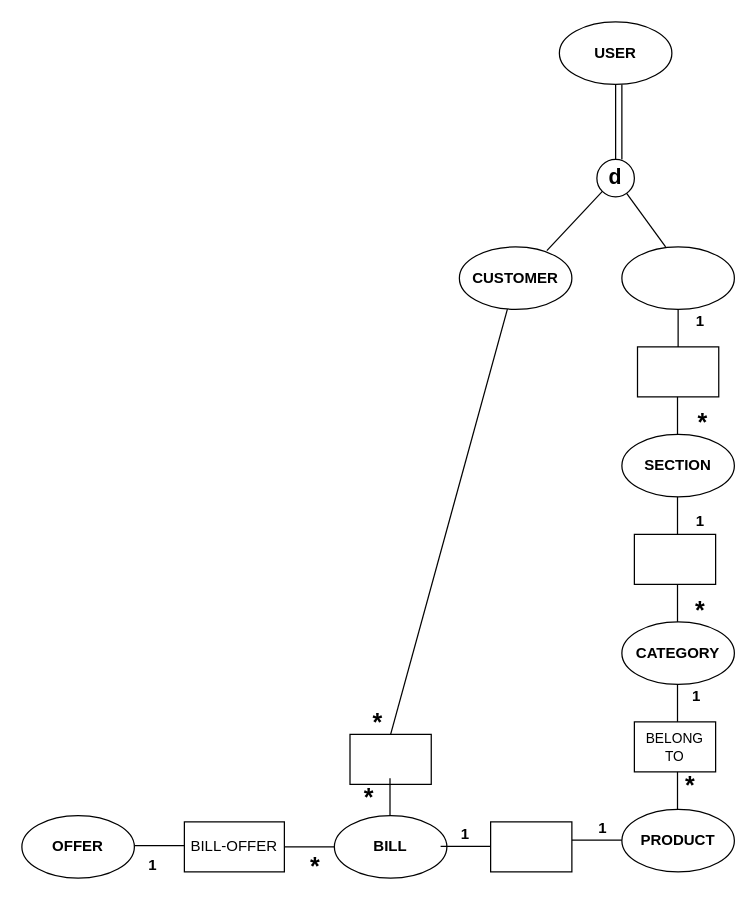
The diagram is 756 pixels wide and 903 high, and some of its shapes have lost their labels. The centre of each missing label's shape, as x and y in pixels:
ADMIN: the point at 677,277
HAS: the point at 530,846
HAS A: the point at 674,558
MANAGE: the point at 677,371
ORDER: the point at 390,758
